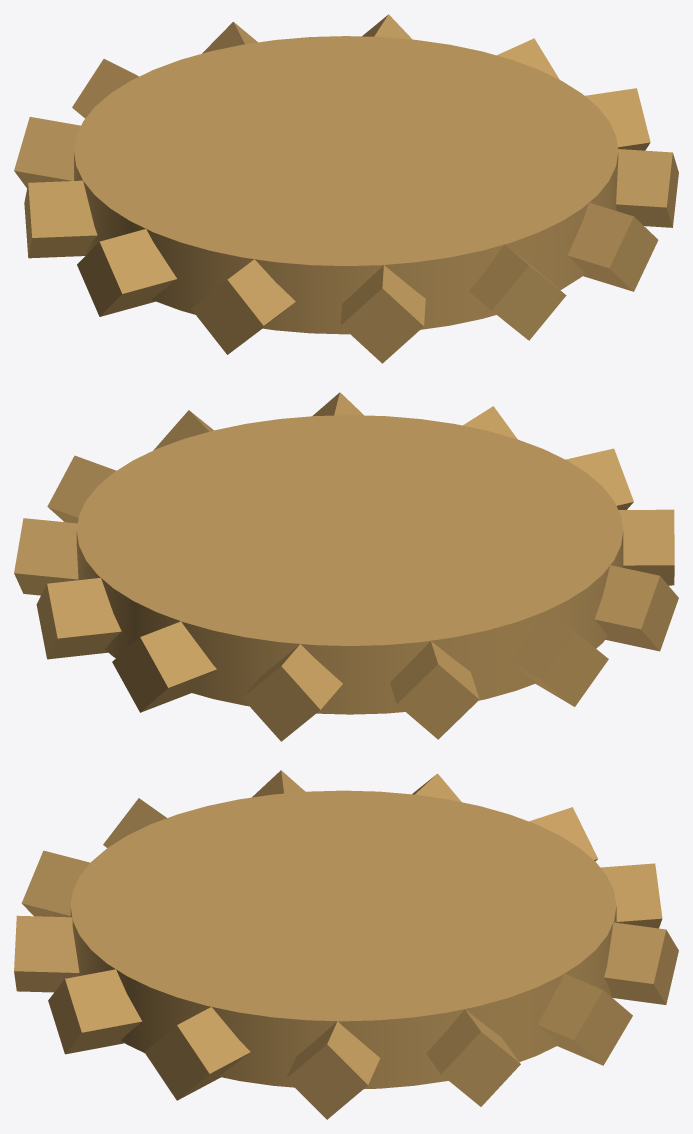
Rendered from Executive.glb.
3 renders of one model, top to bottom at view 1: azimuth 30°, elevation 25°; view 2: azimuth 150°, elevation 25°; view 3: azimuth 270°, elevation 25°, orthographic.
Parts seen in each view (by area): view 1: Ratchet hub, Ratchet tooth (×13); view 2: Ratchet hub, Ratchet tooth (×13); view 3: Ratchet hub, Ratchet tooth (×13).
Boxes of the visible parts, <box> form: Ratchet hub: <box>74,36,618,334</box>; Ratchet tooth (×13): <box>14,14,678,363</box>; Ratchet hub: <box>76,415,623,714</box>; Ratchet tooth (×13): <box>14,392,678,741</box>; Ratchet hub: <box>70,790,616,1088</box>; Ratchet tooth (×13): <box>14,770,678,1119</box>.
Size of the model in its own units: 0.4148 by 0.052 by 0.4141.
